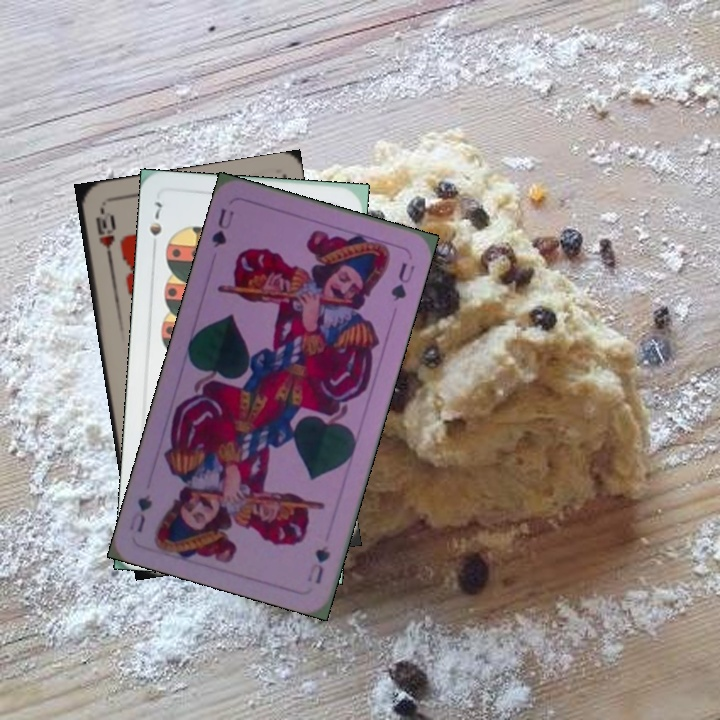GU: (207, 204, 237, 250), (303, 541, 333, 587)
H10: (91, 205, 117, 264)
S7: (144, 196, 166, 238)
